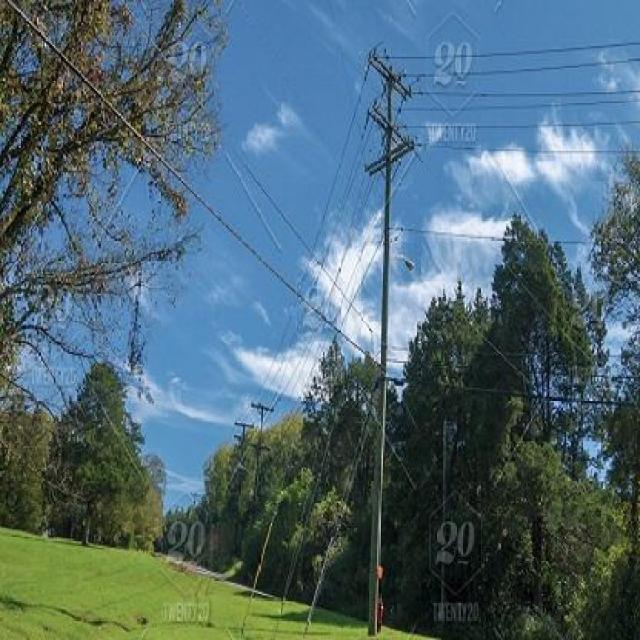pole: (346, 39, 426, 638)
